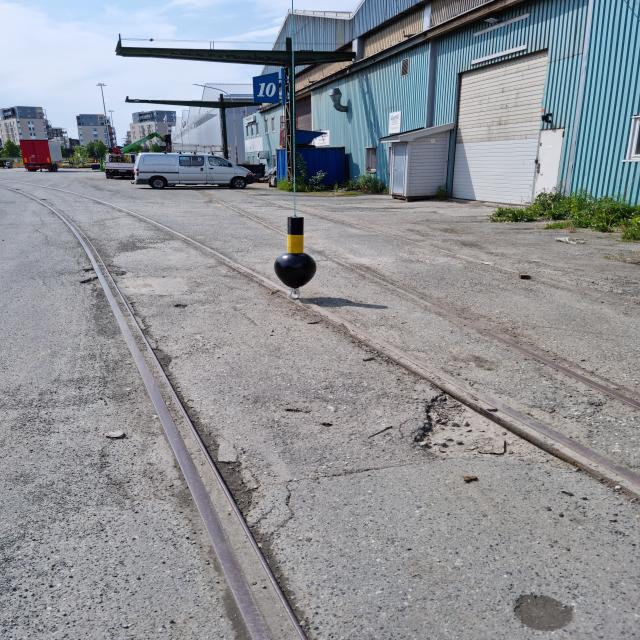east: (273, 216, 318, 289)
